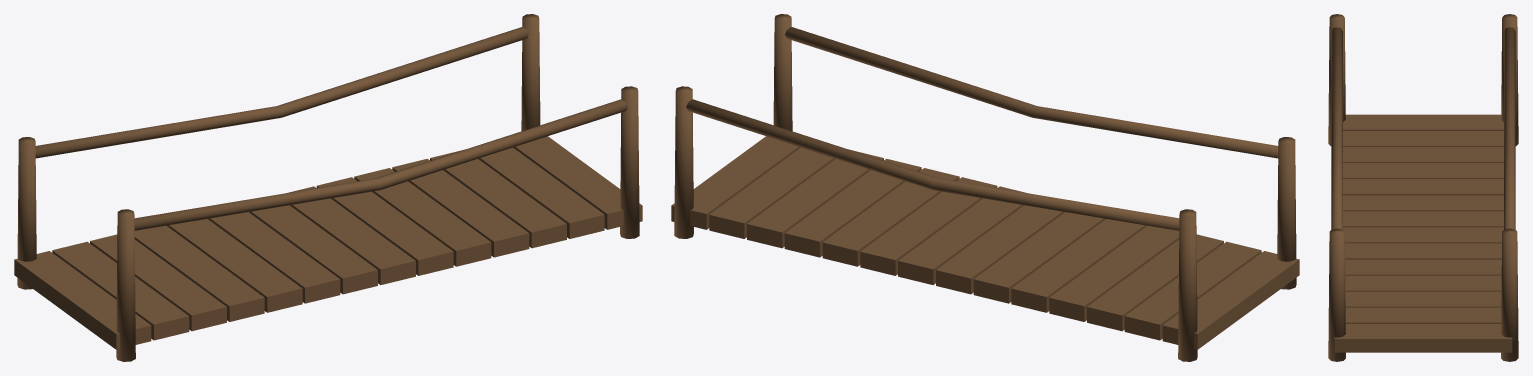
File: ponte.glb
3 renders of one model, left to right at view 1: azimuth 30°, elevation 25°; view 2: azimuth 150°, elevation 25°; view 3: azimuth 270°, elevation 25°, orthographic. The views are drawn at different scales.
Visible parts, largest first — view 1: SM_ponte; view 2: SM_ponte; view 3: SM_ponte.
Part boxes in pixels (x1,y1,x2,y2): SM_ponte: (14, 14, 642, 361); SM_ponte: (671, 14, 1299, 361); SM_ponte: (1328, 14, 1518, 361).
Size of the model in its own units: 4.18 by 1.1 by 1.5.
